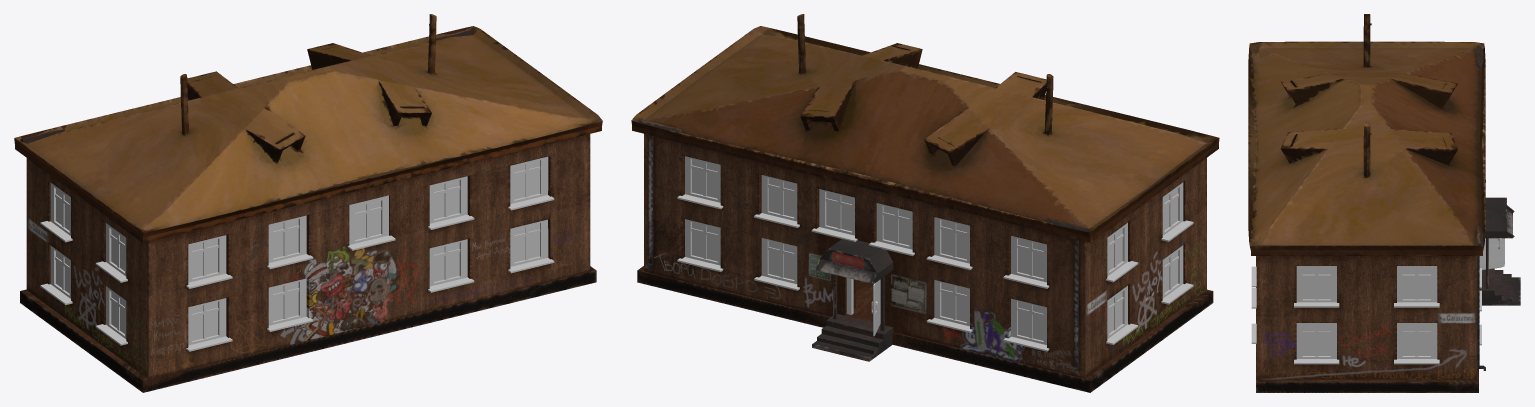
3 views of the same model, side by side, from view 1: azimuth 30°, elevation 25°; view 2: azimuth 150°, elevation 25°; view 3: azimuth 270°, elevation 25° (orthographic). The views are drawn at different scales.
Parts seen in each view (by area): view 1: roaf, wall, window, inter; view 2: roaf, wall, window, inter; view 3: roaf, wall, window, inter.
Boxes of the visible parts, <box> form: roaf: <box>14,14,602,242</box>; wall: <box>20,29,590,379</box>; window: <box>40,156,554,351</box>; inter: <box>20,266,596,392</box>; roaf: <box>631,14,1219,242</box>; wall: <box>638,119,1206,378</box>; window: <box>677,156,1193,351</box>; inter: <box>637,266,1213,392</box>; roaf: <box>1248,14,1485,255</box>; wall: <box>1256,45,1520,379</box>; window: <box>1251,238,1504,364</box>; inter: <box>1256,256,1478,392</box>.
Size of the model in its own units: 48.66 by 25.01 by 27.46.
